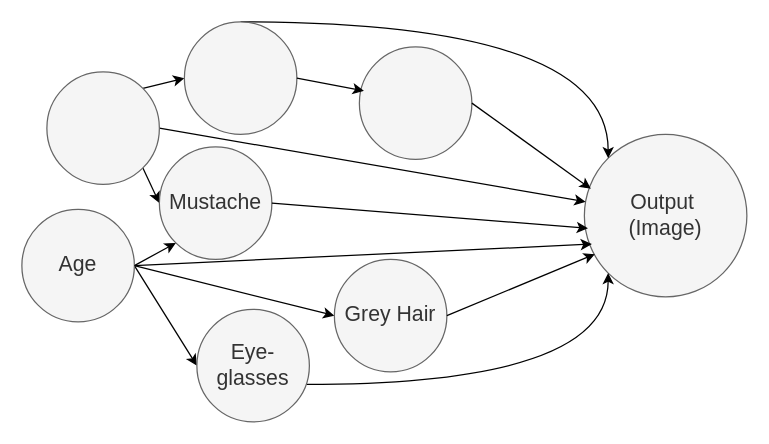
Some shapes in this 769 by 444 pixel diagram are drawn without their labels. Each missing label, with the box of its shape:
Narrow eyes: (358, 46, 472, 159)
Sex: (46, 71, 159, 184)
Smiling: (183, 21, 297, 134)
